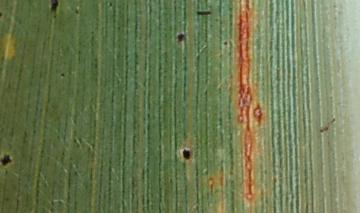tarspot: (1, 154, 14, 166), (196, 9, 212, 16), (50, 1, 60, 12), (182, 148, 191, 159), (177, 33, 186, 42), (222, 40, 228, 46), (75, 8, 80, 14), (108, 2, 113, 8), (60, 72, 65, 77), (1, 12, 3, 17)
